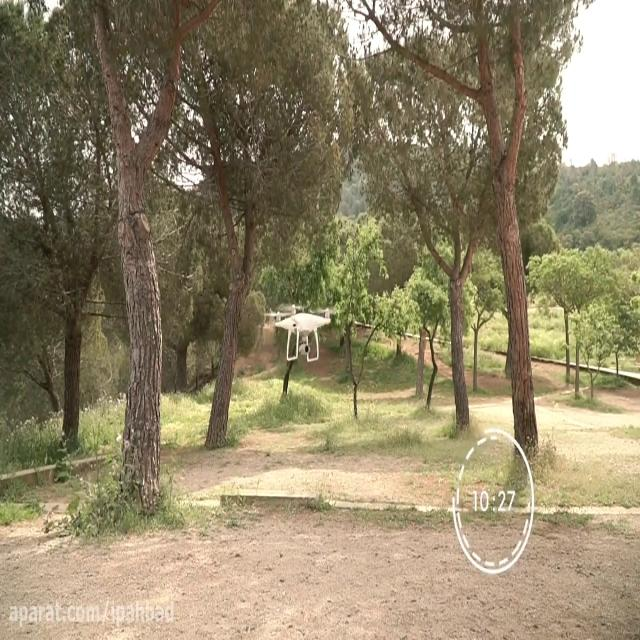drone: (261, 301, 339, 364)
